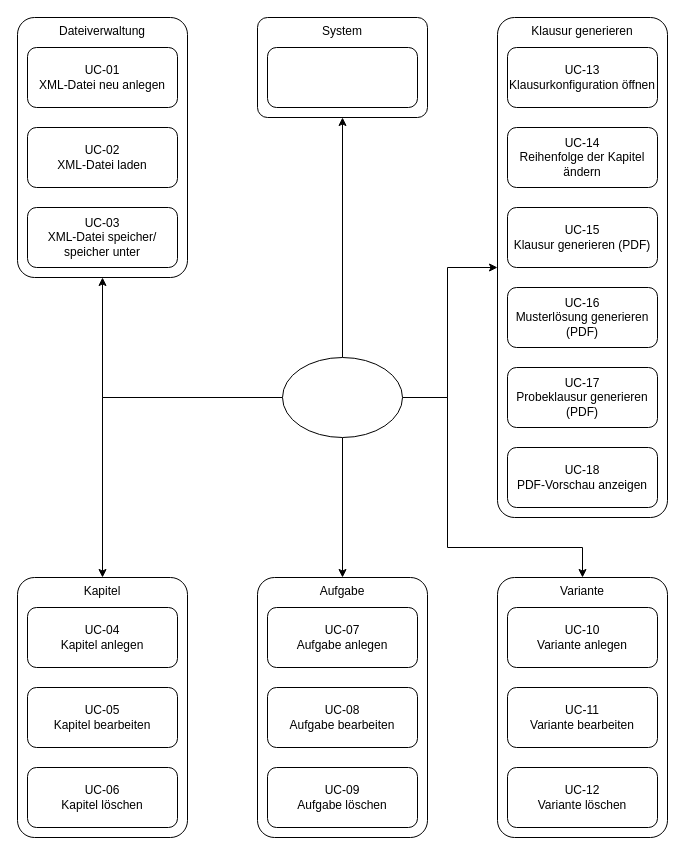
Some shapes in this 685 by 855 pixel diagram are drawn without their labels. Each missing label, with the centre of its shape:
Dozent: (x=342, y=397)
UC-19 Sprache ändern: (x=342, y=77)
